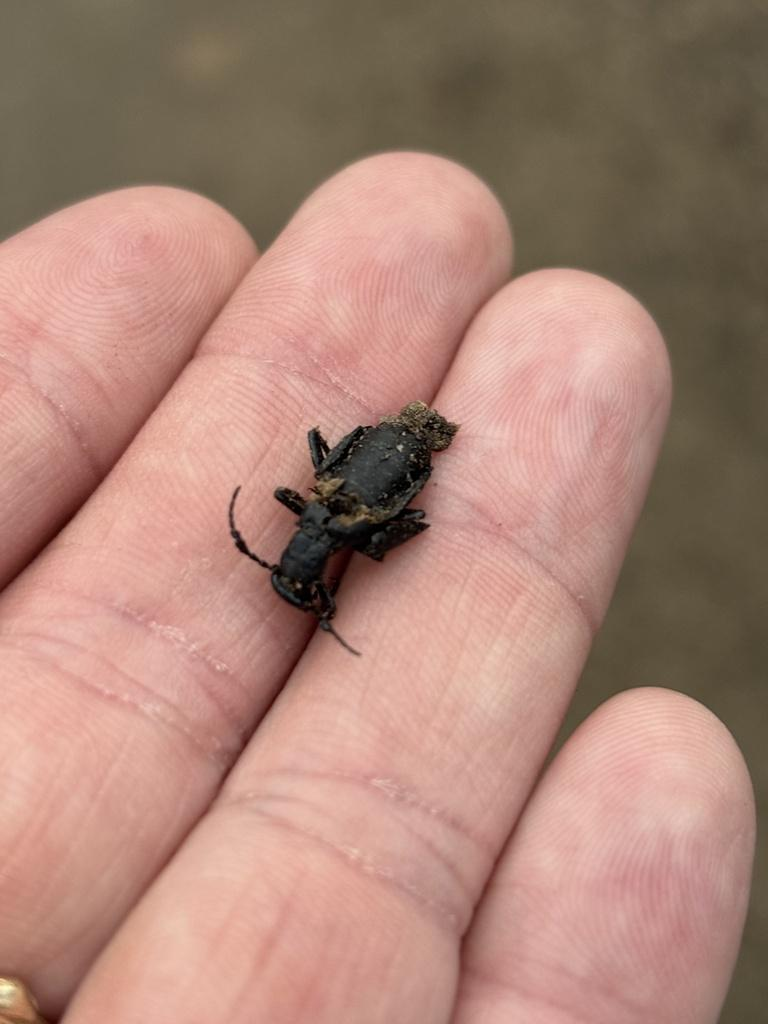blister_beetle: (139, 327, 531, 716)
